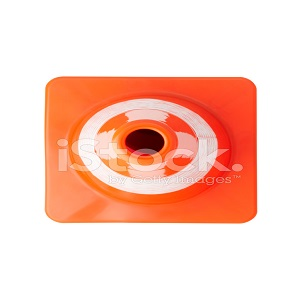traffic cone: (45, 76, 257, 223)
